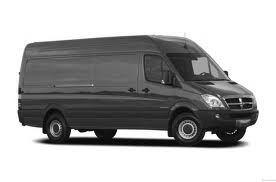car: (15, 35, 261, 147)
